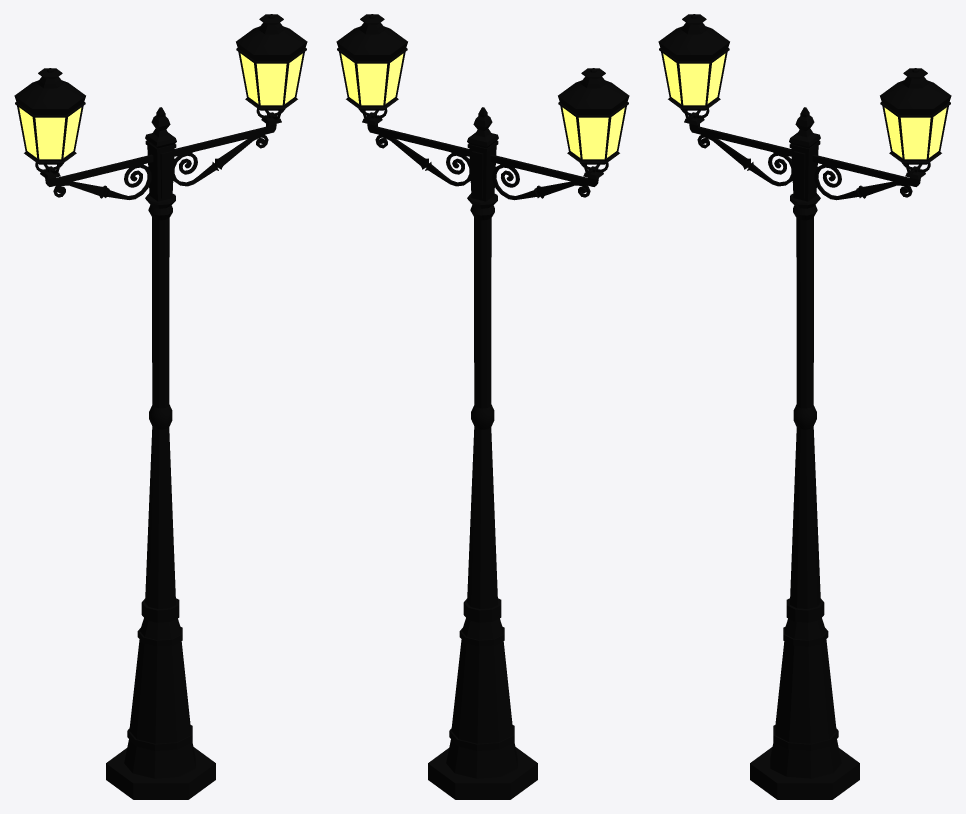
The model's file is lamp.glb.
3 renders of one model, left to right at view 1: azimuth 30°, elevation 25°; view 2: azimuth 150°, elevation 25°; view 3: azimuth 330°, elevation 25°, orthographic.
Parts seen in each view (by area): view 1: FarolaDe1.001; view 2: FarolaDe1.001; view 3: FarolaDe1.001.
Boxes of the visible parts, x1=… form: FarolaDe1.001: x1=14, y1=14, x2=307, y2=799; FarolaDe1.001: x1=336, y1=14, x2=629, y2=799; FarolaDe1.001: x1=658, y1=14, x2=951, y2=799.
Size of the model in its own units: 1.28 by 3.29 by 0.4452.
